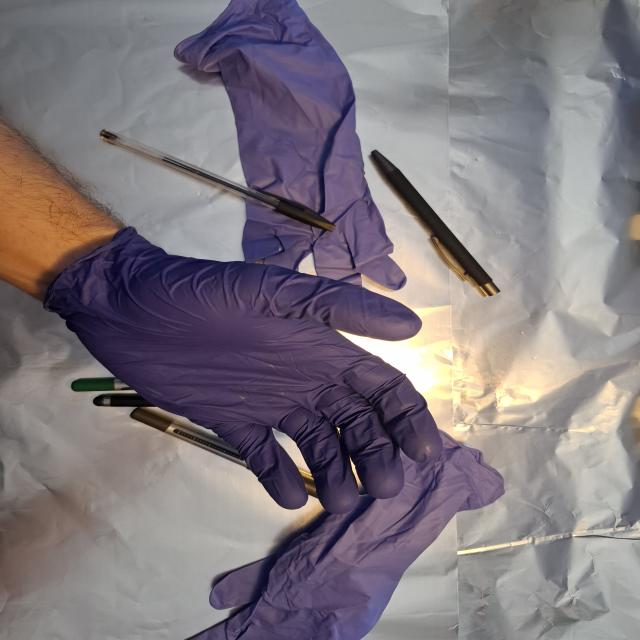glove_on: (48, 231, 447, 517)
